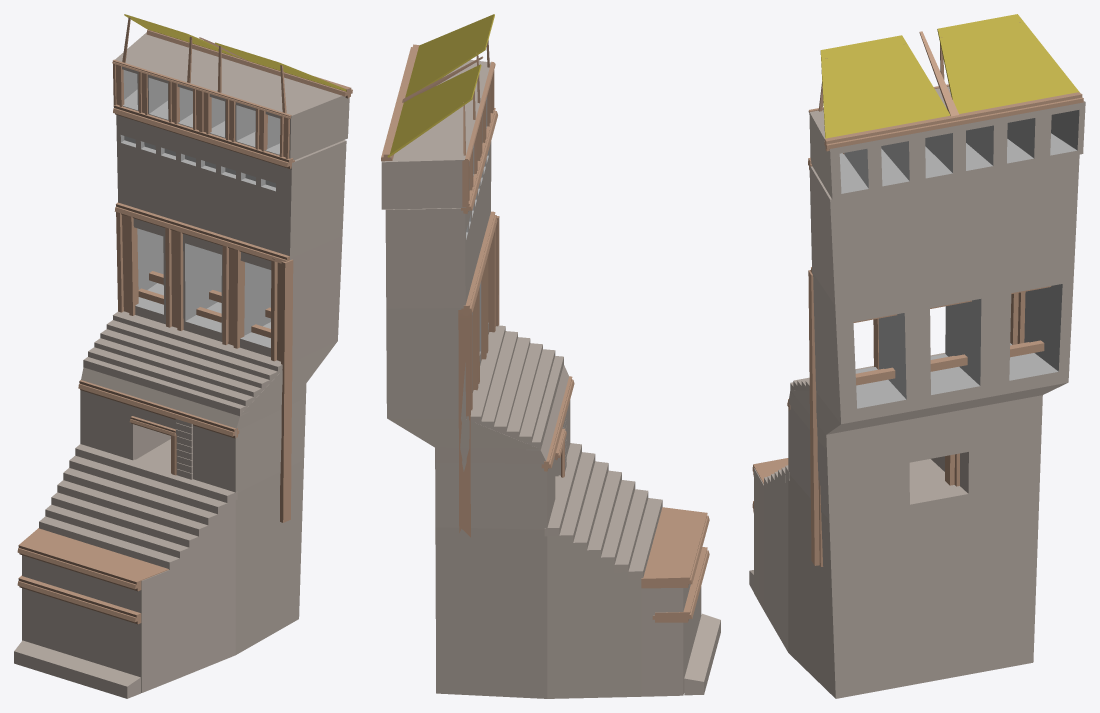
Rendered from Edge_01.fbx.
The picture shows the model from 3 angles, left to right: view 1: azimuth 30°, elevation 25°; view 2: azimuth 150°, elevation 25°; view 3: azimuth 270°, elevation 25°; orthographic projection. The views are drawn at different scales.
Parts seen in each view (by area): view 1: polySurface53; view 2: polySurface53; view 3: polySurface53.
Part boxes in pixels (bbox=[...]): polySurface53: bbox=[14, 14, 352, 698]; polySurface53: bbox=[381, 14, 720, 698]; polySurface53: bbox=[749, 14, 1085, 698].
Bounding box in the file's own units: 0.0567 × 0.0996 × 0.0479.
